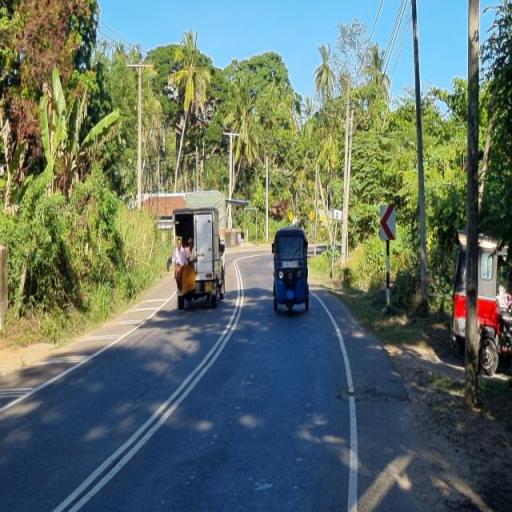double_white_line: (46, 252, 248, 511)
